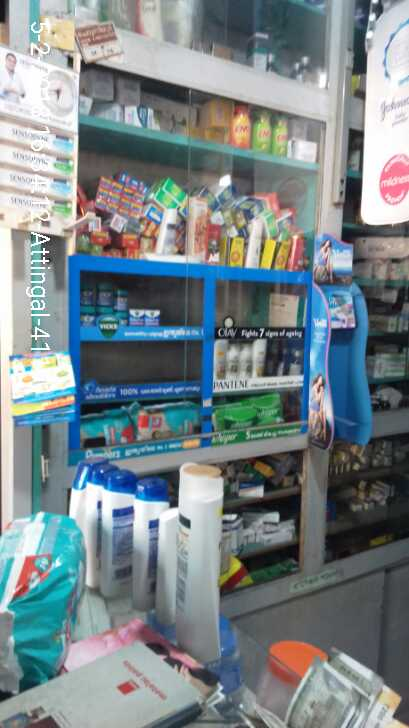vicks: (71, 282, 172, 335)
